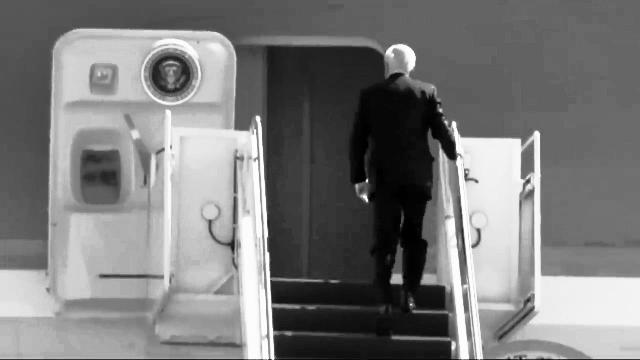berjalan: (334, 38, 474, 346)
